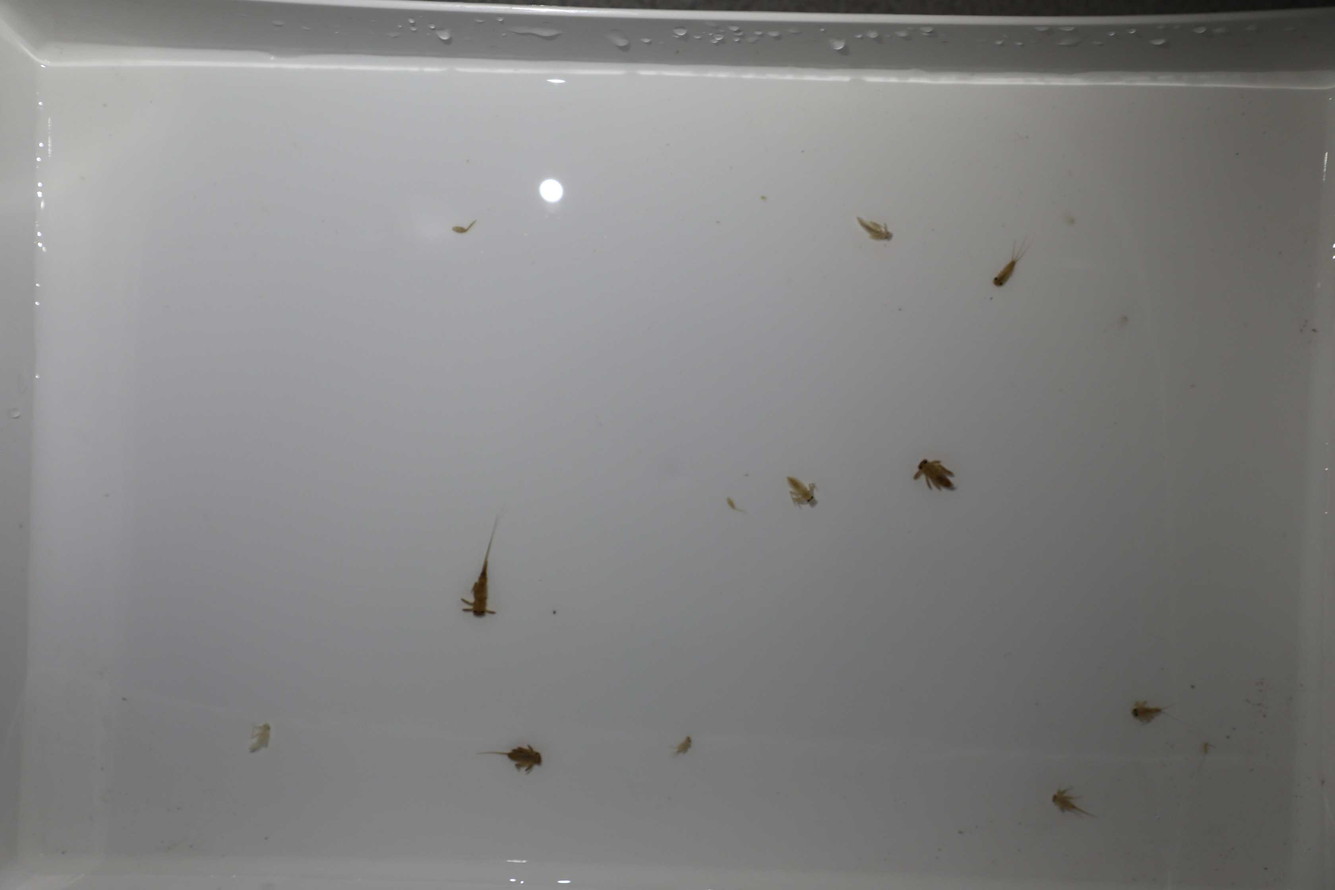Mayfly: (456, 504, 510, 629), (979, 234, 1035, 296), (472, 738, 548, 774), (1052, 788, 1105, 827), (913, 454, 958, 499), (850, 211, 902, 246), (781, 472, 827, 510), (1121, 698, 1172, 730), (243, 720, 274, 760)
